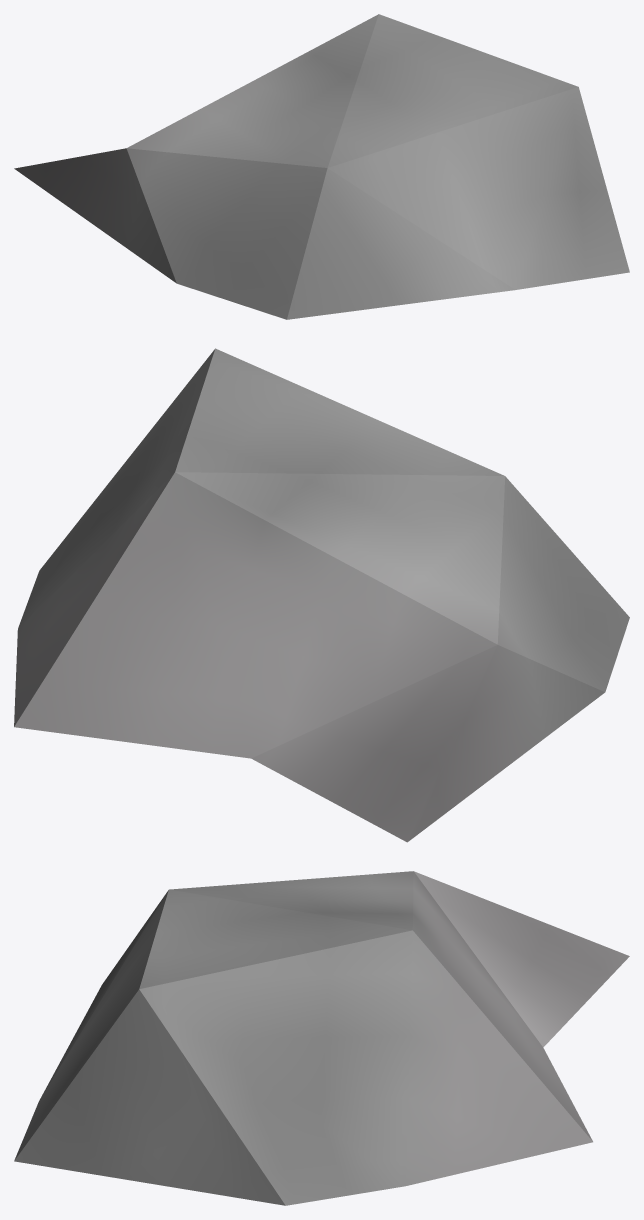
The picture shows the model from 3 angles, top to bottom: view 1: azimuth 30°, elevation 25°; view 2: azimuth 150°, elevation 25°; view 3: azimuth 270°, elevation 25°; orthographic projection. The views are drawn at different scales.
Size of the model in its own units: 0.0558 by 0.0191 by 0.0582.
Materials: 1 (1 with a texture image).
